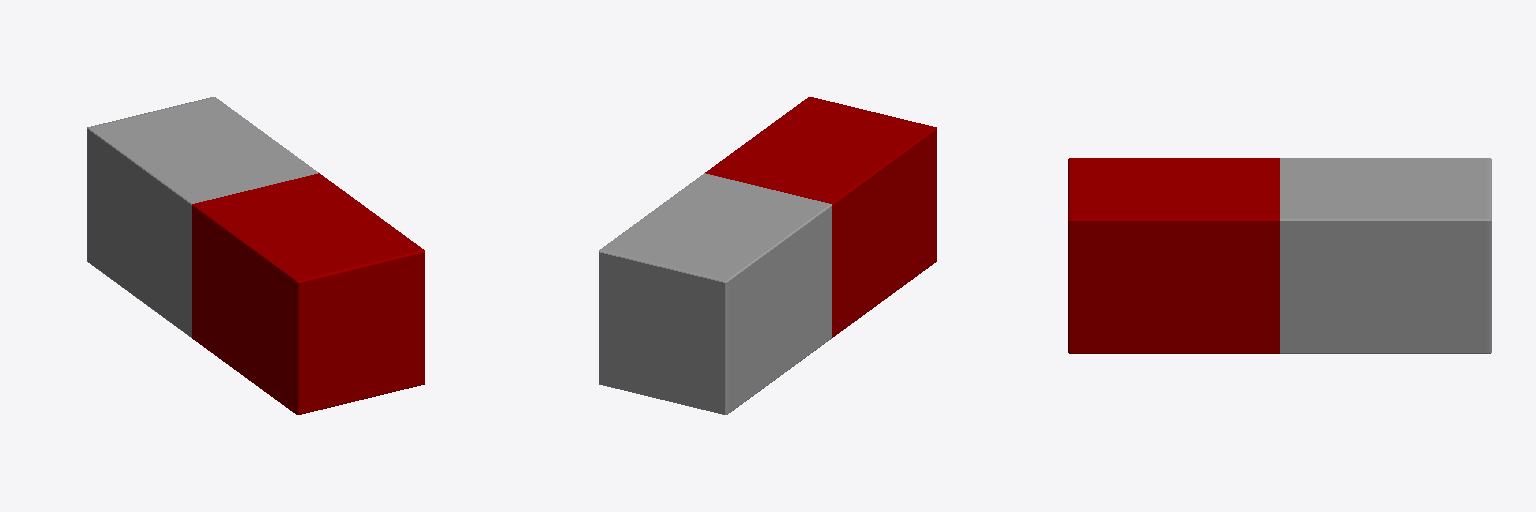
Rendered from magnet.obj.
3 renders of one model, left to right at view 1: azimuth 30°, elevation 25°; view 2: azimuth 150°, elevation 25°; view 3: azimuth 270°, elevation 25°, orthographic.
Parts seen in each view (by area): view 1: Cube_Cube.001; view 2: Cube_Cube.001; view 3: Cube_Cube.001.
Boxes of the visible parts, x1,y1,x2,y2 form: Cube_Cube.001: [87, 97, 424, 414]; Cube_Cube.001: [599, 97, 936, 414]; Cube_Cube.001: [1068, 158, 1491, 353].
Size of the model in its own units: 2 by 2 by 5.7.